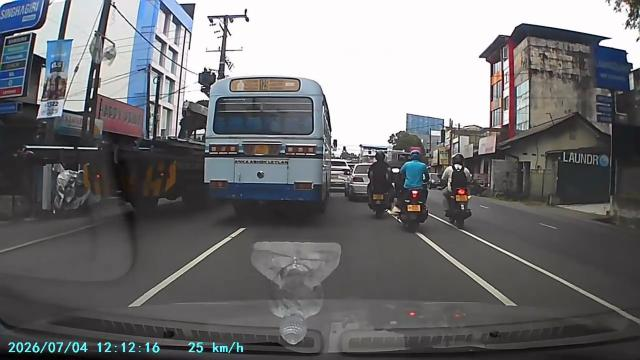illegal overtaking: (438, 151, 478, 231)
